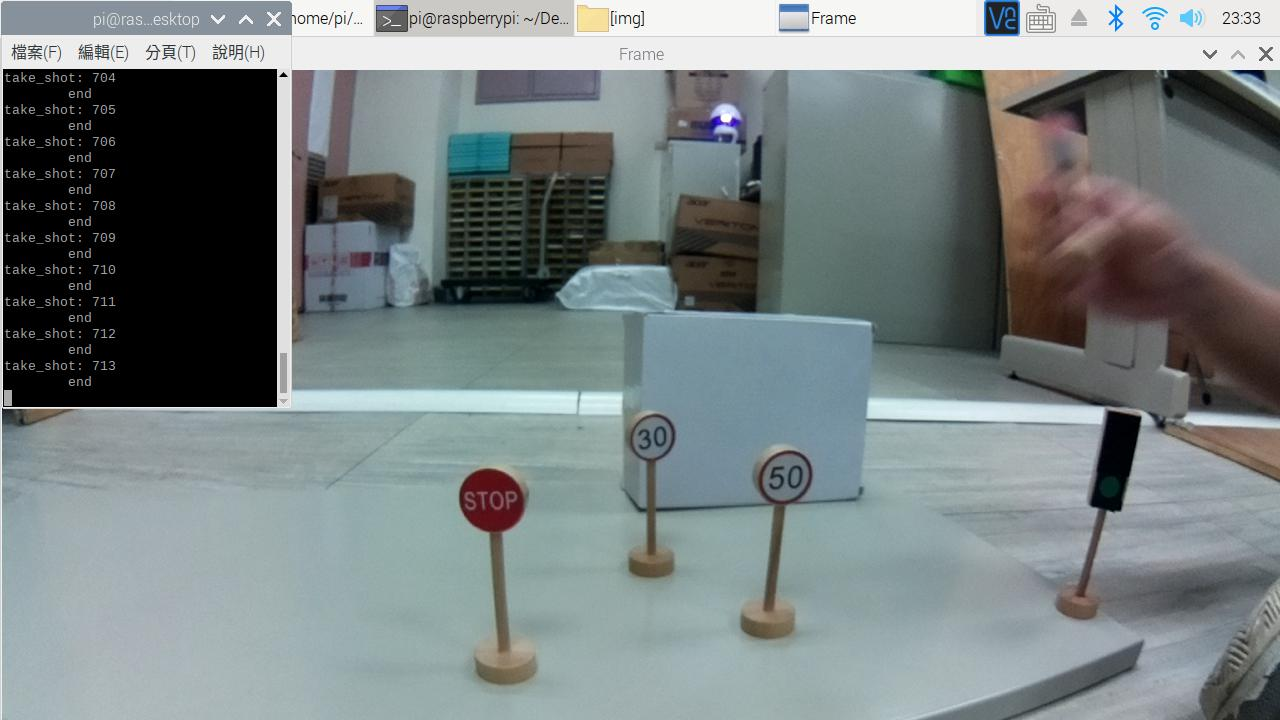Green: (1078, 401, 1139, 536)
Speed30: (617, 405, 694, 468)
Speed50: (740, 439, 834, 517)
Stop: (438, 459, 552, 544)
